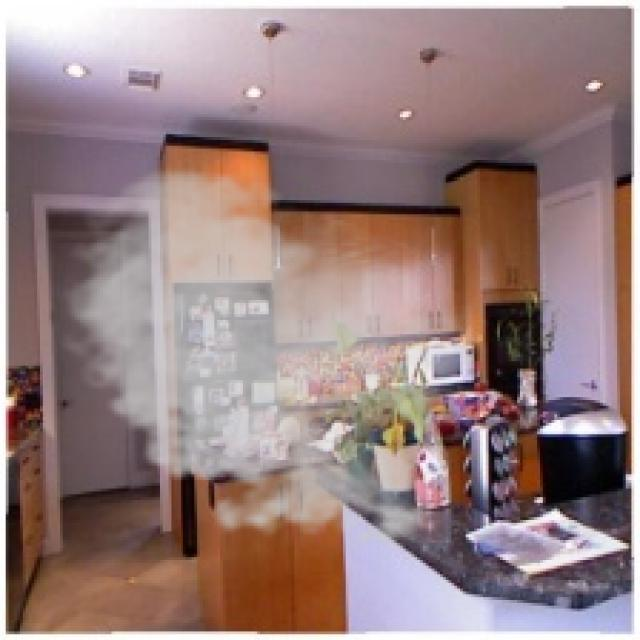Smoke: (52, 160, 477, 560)
